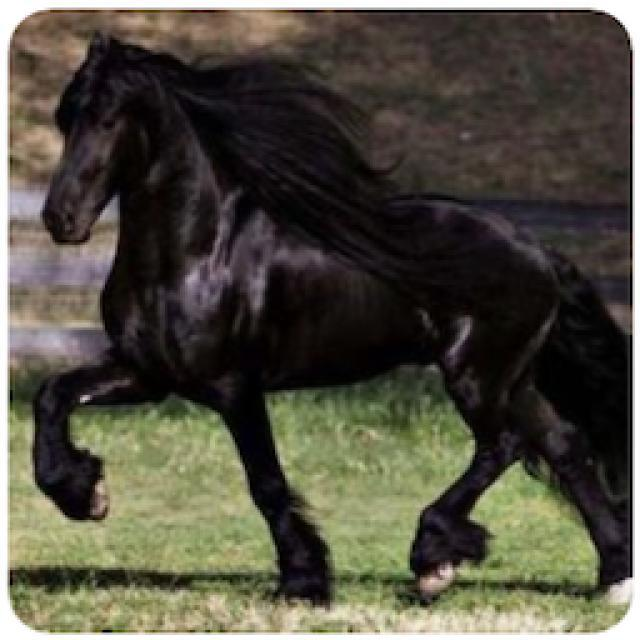Horse: (28, 28, 630, 608)
